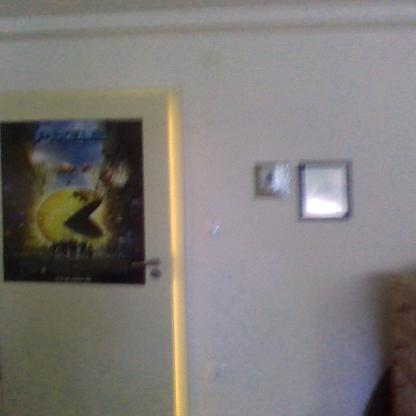door: (0, 95, 178, 416)
hinged: (0, 359, 8, 382)
lever: (129, 257, 161, 266)
